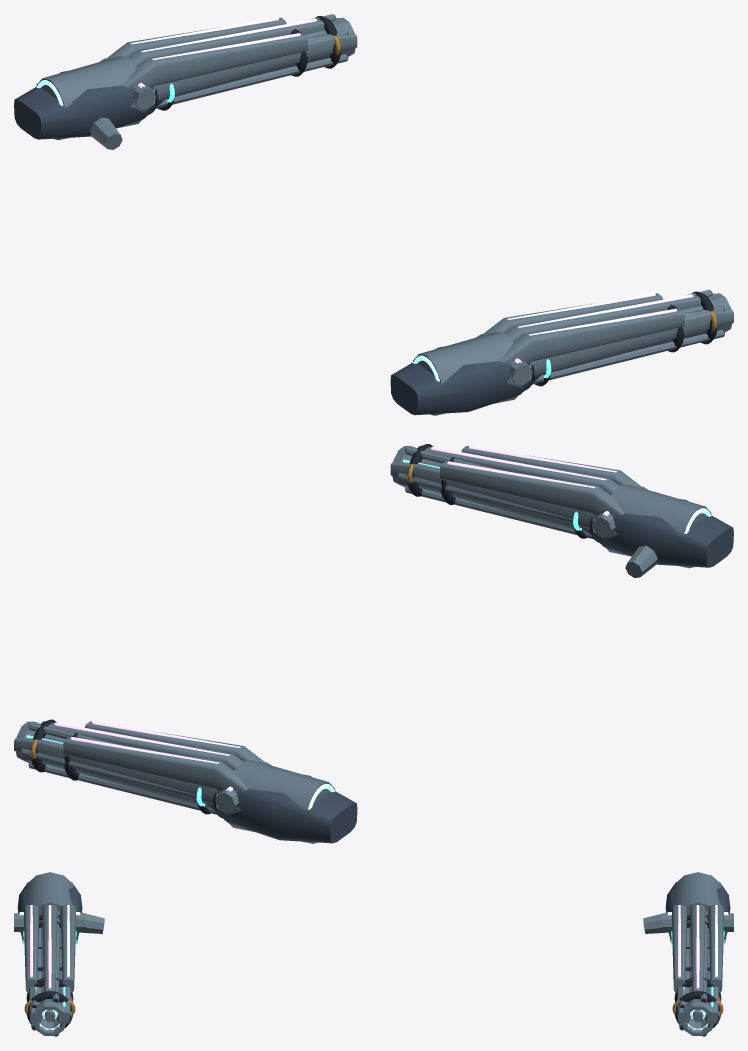
Rendered from mount.glb.
The picture shows the model from 3 angles, top to bottom: view 1: azimuth 30°, elevation 25°; view 2: azimuth 150°, elevation 25°; view 3: azimuth 270°, elevation 25°; orthographic projection. The views are drawn at different scales.
Parts seen in each view (by area): view 1: m_array Brushed fitting edges, m_heavy Fitting gunmetal, m_rotary Brushed fitting edges, m_siege Brushed fitting edges, m_array m_array emitter, m_heavy Brushed fitting edges, m_rotary Machined graphite; view 2: m_array Brushed fitting edges, m_heavy Fitting gunmetal, m_rotary Brushed fitting edges, m_siege Brushed fitting edges, m_heavy Brushed fitting edges, m_array m_array emitter, m_rotary Machined graphite; view 3: m_array Brushed fitting edges, m_rotary Brushed fitting edges, m_heavy Brushed fitting edges, m_array m_array emitter, m_siege Brushed fitting edges, m_rotary Machined graphite, m_heavy Fitting gunmetal.
Boxes of the visible parts, x1,y1,x2,y2 form: m_array Brushed fitting edges: (99,17,700,385); m_heavy Fitting gunmetal: (14,70,540,415); m_rotary Brushed fitting edges: (36,14,724,415); m_siege Brushed fitting edges: (153,33,733,376); m_array m_array emitter: (130,17,693,363); m_heavy Brushed fitting edges: (90,17,731,375); m_rotary Machined graphite: (284,15,724,352); m_array Brushed fitting edges: (48,446,647,813); m_heavy Fitting gunmetal: (207,499,733,843); m_rotary Brushed fitting edges: (21,445,711,843); m_siege Brushed fitting edges: (14,448,594,804); m_heavy Brushed fitting edges: (16,446,657,809); m_array m_array emitter: (54,445,617,791); m_rotary Machined graphite: (21,444,463,780); m_array Brushed fitting edges: (14,905,733,992); m_rotary Brushed fitting edges: (20,872,727,1036); m_heavy Brushed fitting edges: (33,913,714,1035); m_array m_array emitter: (19,905,728,988); m_siege Brushed fitting edges: (29,927,718,1023); m_rotary Machined graphite: (26,977,721,1036); m_heavy Fitting gunmetal: (17,882,730,943).
Bounding box in the file's own units: 19.56 × 3.95 × 44.45.
